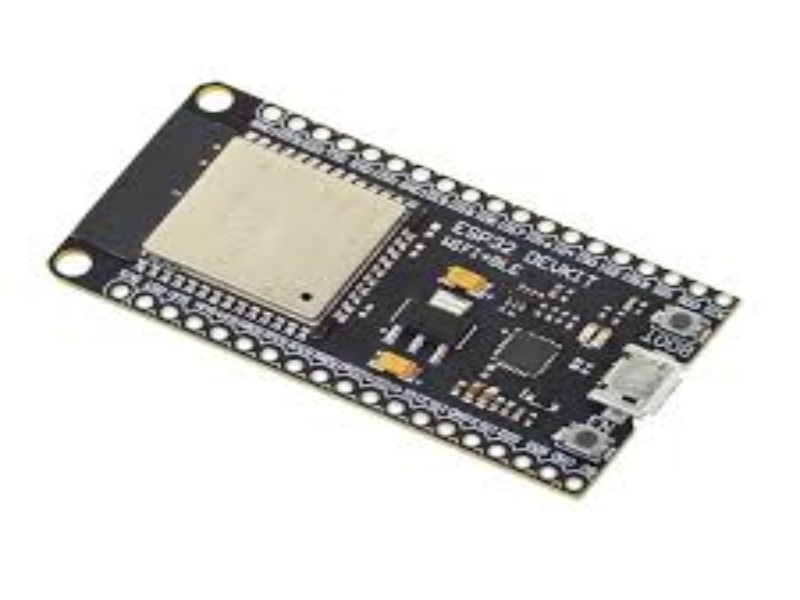esp32: (37, 67, 759, 493)
